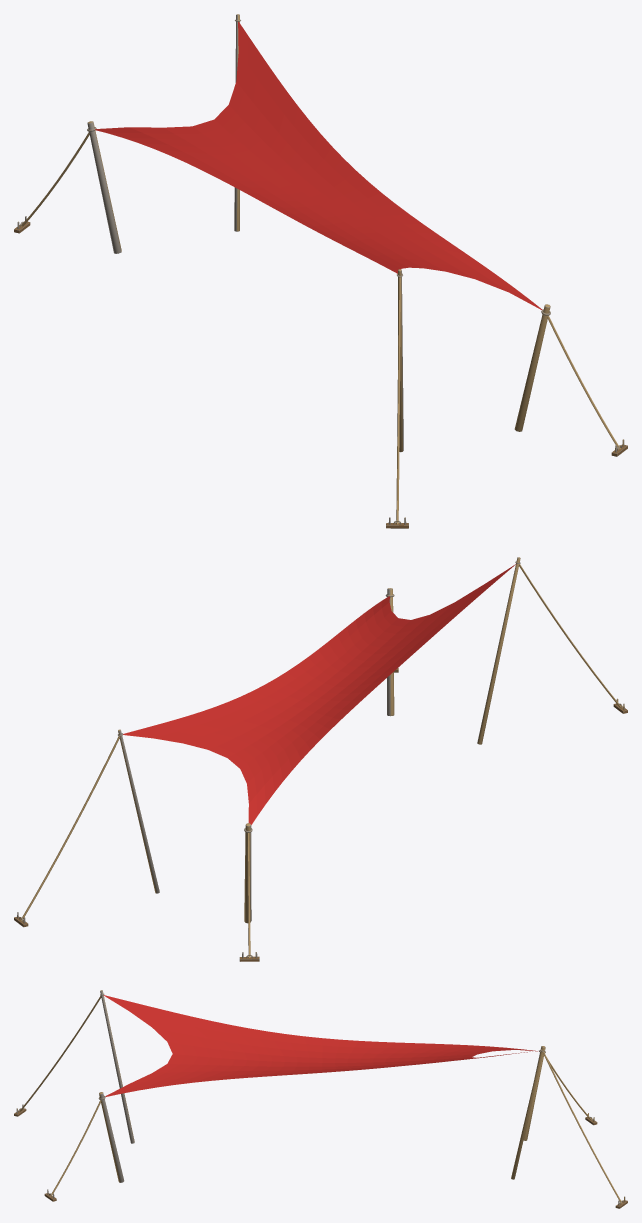
The model's file is nomad_sail_ribbon.fbx.
3 renders of one model, top to bottom at view 1: azimuth 30°, elevation 25°; view 2: azimuth 150°, elevation 25°; view 3: azimuth 270°, elevation 25°, orthographic. The views are drawn at different scales.
Visible parts, largest first — view 1: S07_Canopy, S07_Mast3_SailRig_MastStub, S07_Mast1_SailRig_MastStub, S07_Guy; view 2: S07_Canopy, S07_Mast_SailRig_MastPole, S07_Mast2_SailRig_MastPole, S07_Mast3_SailRig_MastStub; view 3: S07_Canopy, S07_Mast_SailRig_MastPole, S07_Mast1_SailRig_MastStub, S07_Mast2_SailRig_MastPole, S07_Guy2, S07_Mast3_SailRig_MastStub.
Part boxes in pixels (box(x1,y1,x2,y2)): S07_Canopy: box(95, 21, 542, 309); S07_Mast3_SailRig_MastStub: box(87, 121, 121, 253); S07_Mast1_SailRig_MastStub: box(514, 304, 550, 431); S07_Guy: box(396, 277, 400, 524); S07_Canopy: box(123, 564, 515, 824); S07_Mast_SailRig_MastPole: box(477, 557, 520, 744); S07_Mast2_SailRig_MastPole: box(118, 729, 159, 893); S07_Mast3_SailRig_MastStub: box(244, 823, 252, 923); S07_Canopy: box(103, 995, 537, 1096); S07_Mast_SailRig_MastPole: box(100, 990, 134, 1143); S07_Mast1_SailRig_MastStub: box(98, 1092, 124, 1182); S07_Mast2_SailRig_MastPole: box(511, 1046, 544, 1179); S07_Guy2: box(542, 1051, 622, 1203); S07_Mast3_SailRig_MastStub: box(523, 1046, 545, 1140).
Size of the model in its own units: 446 by 306 by 1171.
